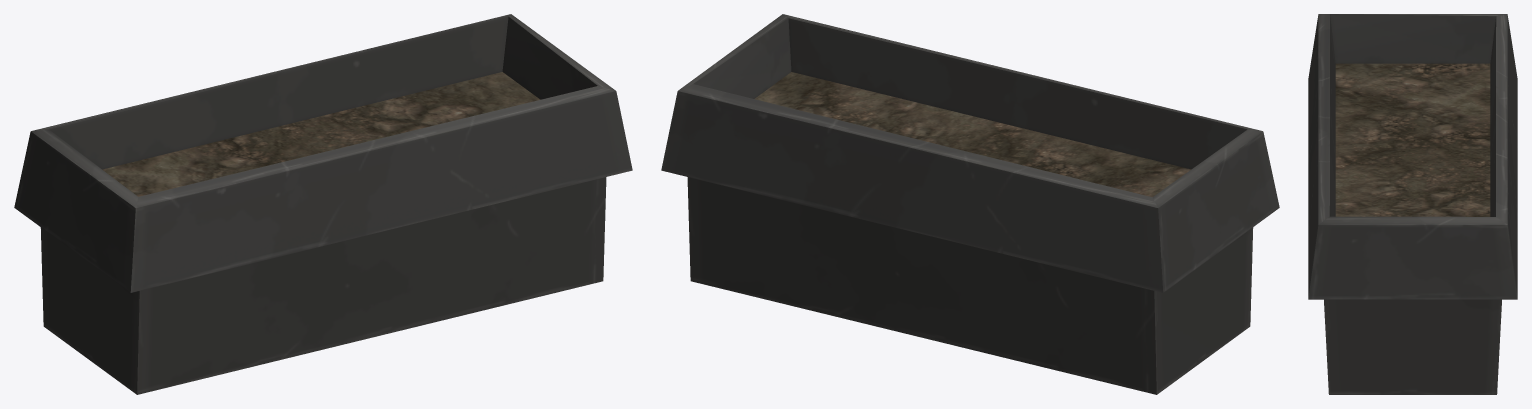
The model's file is Flowerpot2_LOD1.fbx.
3 renders of one model, left to right at view 1: azimuth 30°, elevation 25°; view 2: azimuth 150°, elevation 25°; view 3: azimuth 270°, elevation 25°, orthographic. The views are drawn at different scales.
Visible parts, largest first — view 1: polySurface74; view 2: polySurface74; view 3: polySurface74.
Boxes of the visible parts, x1,y1,x2,y2 form: polySurface74: (14, 14, 632, 394); polySurface74: (661, 14, 1279, 394); polySurface74: (1308, 14, 1517, 394).
Bounding box in the file's own units: 75.8 × 28.44 × 30.46.
Materials: 1 (1 with a texture image).
